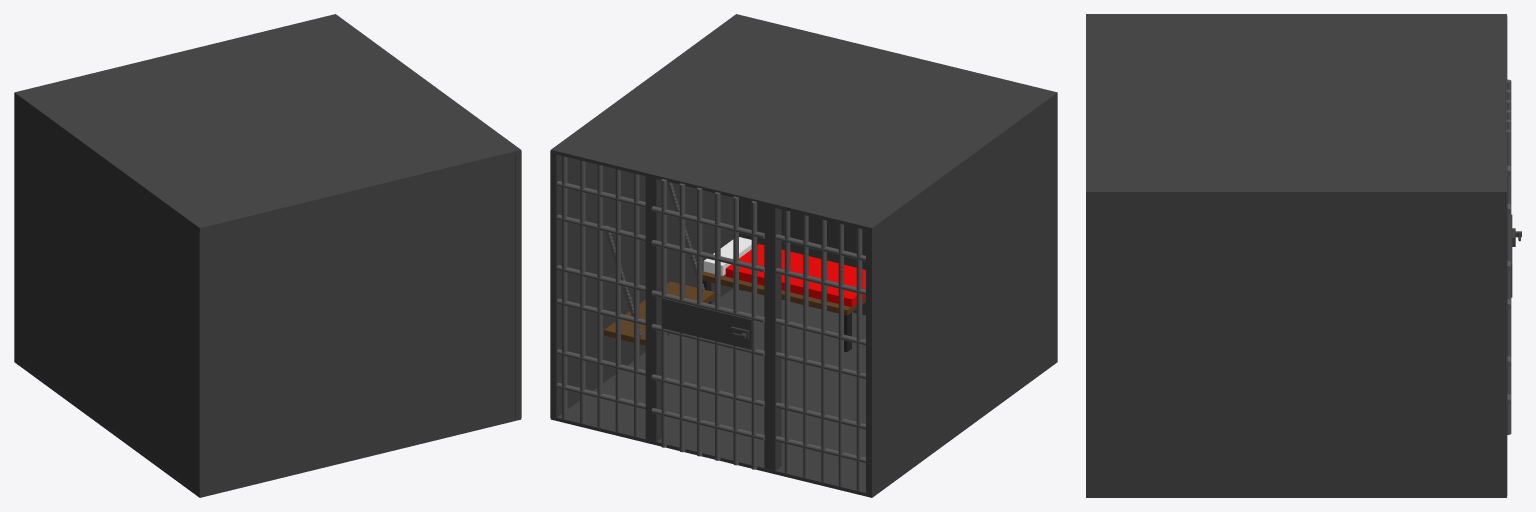
Rendered from Jail-Kapali_GenisKapi.fbx.
3 views of the same model, side by side, from view 1: azimuth 30°, elevation 25°; view 2: azimuth 150°, elevation 25°; view 3: azimuth 270°, elevation 25° (orthographic). The views are drawn at different scales.
Parts seen in each view (by area): view 1: Alt_Zemin.001; view 2: Alt_Zemin.001; view 3: Alt_Zemin.001.
Boxes of the visible parts, box(x1,y1,x2,y2) form: Alt_Zemin.001: box(14, 14, 521, 497); Alt_Zemin.001: box(550, 14, 1057, 497); Alt_Zemin.001: box(1086, 14, 1521, 497).
Size of the model in its own units: 2003 by 1604 by 2071.
